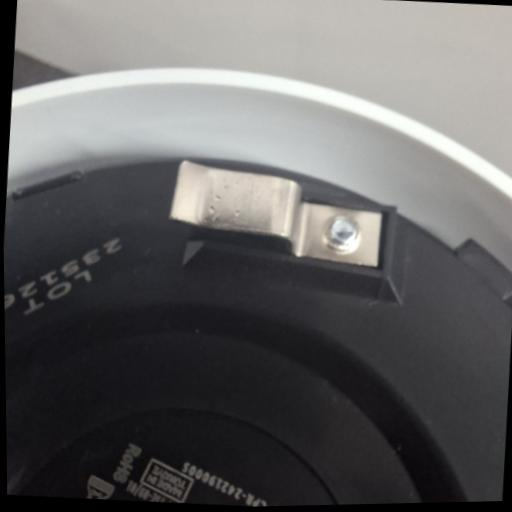yaysiz: (163, 152, 393, 274)
